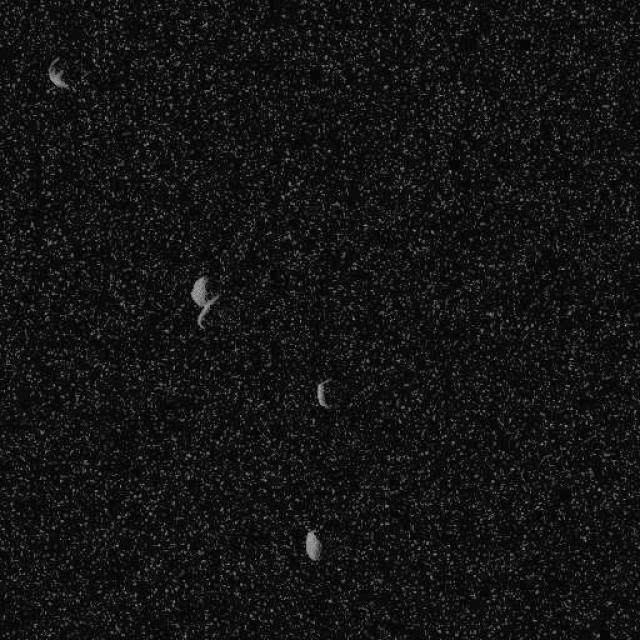D2: (189, 272, 221, 328), (46, 55, 72, 91), (315, 376, 333, 409), (304, 530, 322, 561)
